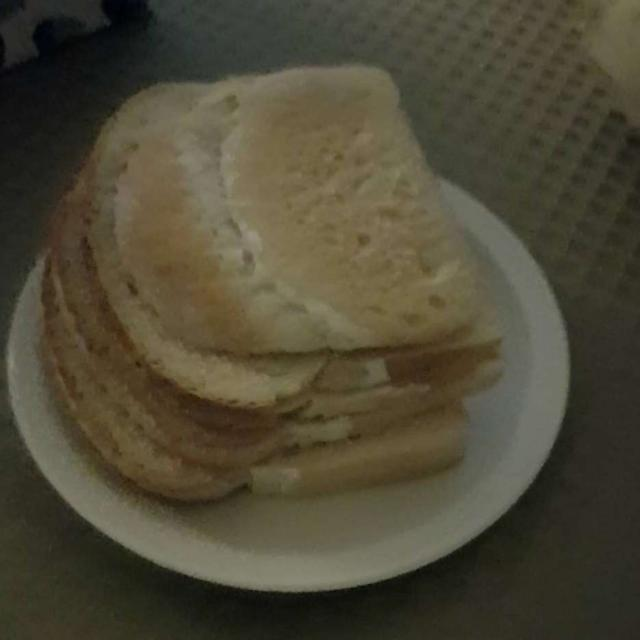bread: (50, 69, 496, 494)
